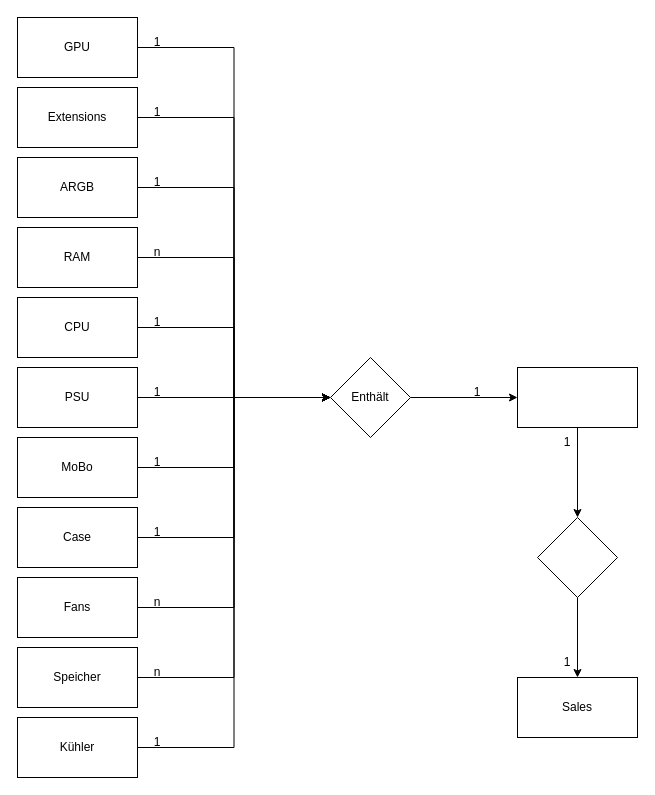
Image size: 655x795. Some labels were removed from this diagram. The shapes that lost their labels are listed below. From the top down, each one's box as (x1, y1, x2, y2) in pixels, then its label:
(516, 366, 638, 428): PC
(536, 516, 618, 598): Verkauft
